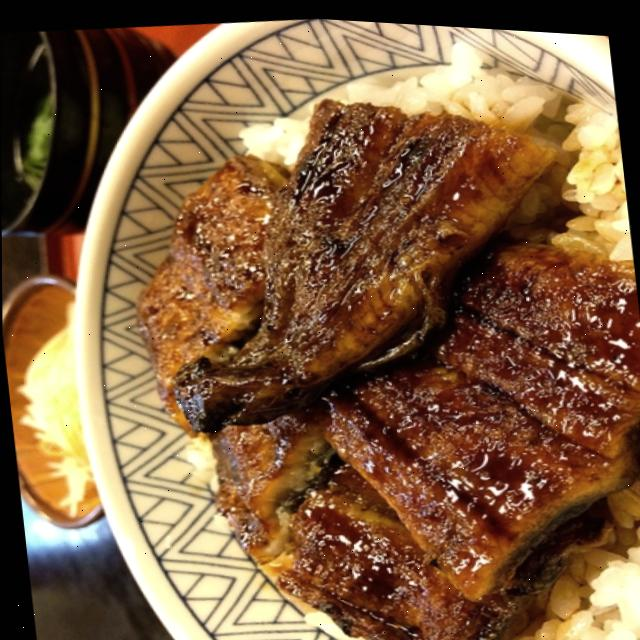熟制海鲜: (62, 3, 640, 640)
